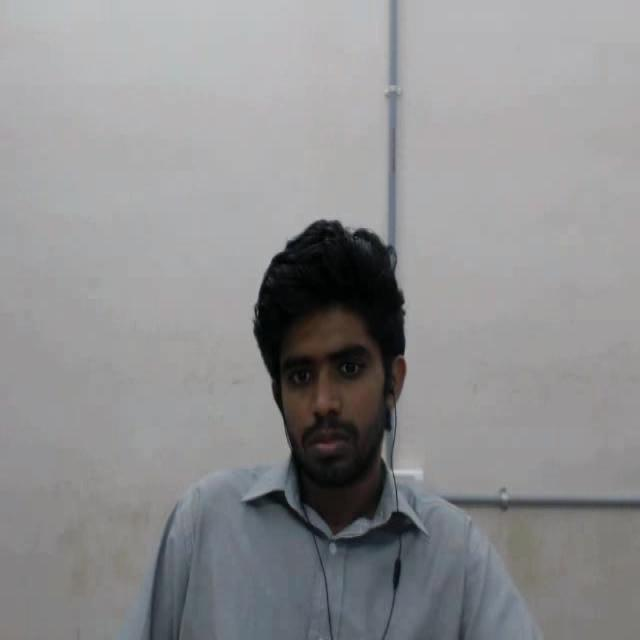Engaged: (214, 197, 448, 548)
